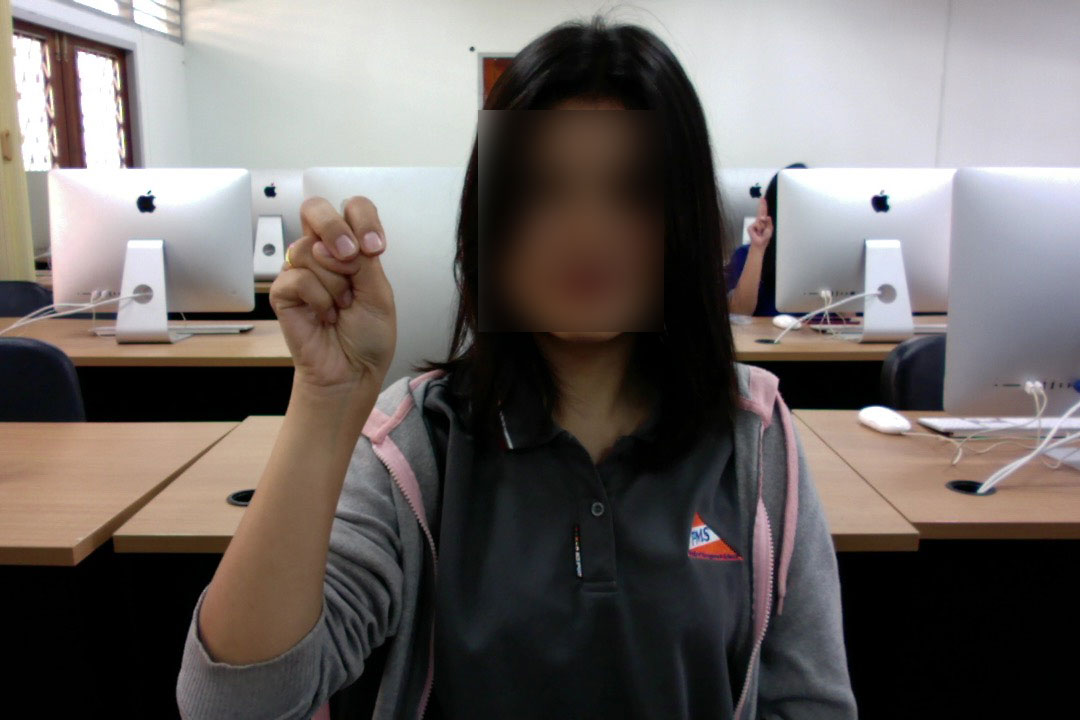nor: (266, 189, 406, 416)
